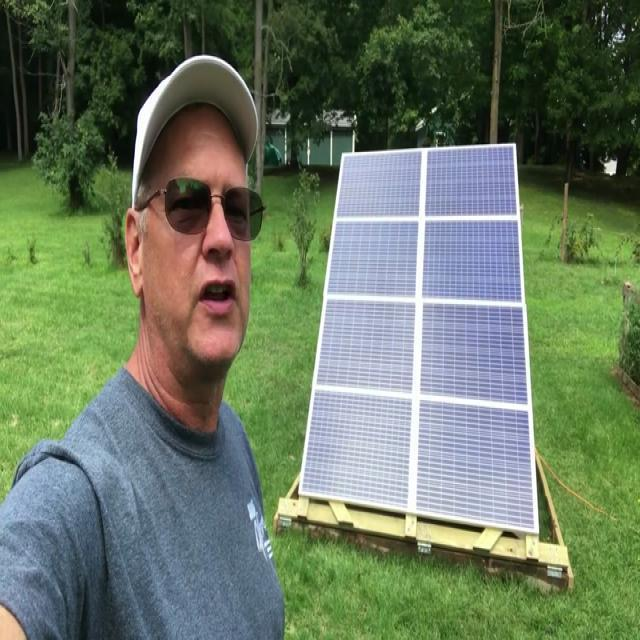Normal Solar Panel: (298, 144, 539, 532)
